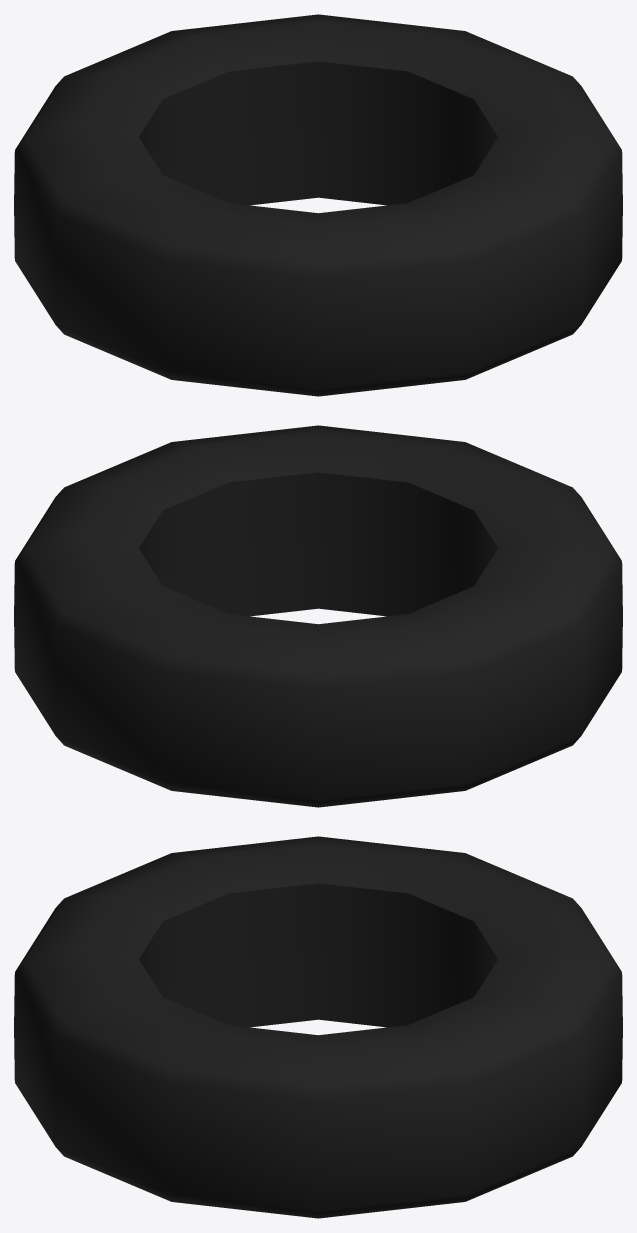
File: SM_Tire.fbx
3 views of the same model, one above another, from view 1: azimuth 30°, elevation 25°; view 2: azimuth 150°, elevation 25°; view 3: azimuth 270°, elevation 25° (orthographic).
Visible parts, largest first — view 1: SM_Tire; view 2: SM_Tire; view 3: SM_Tire.
Part boxes in pixels (x1,y1,x2,y2): SM_Tire: (14, 14, 622, 396); SM_Tire: (14, 425, 622, 807); SM_Tire: (14, 836, 622, 1218).
Size of the model in its own units: 209 by 61.69 by 209.
